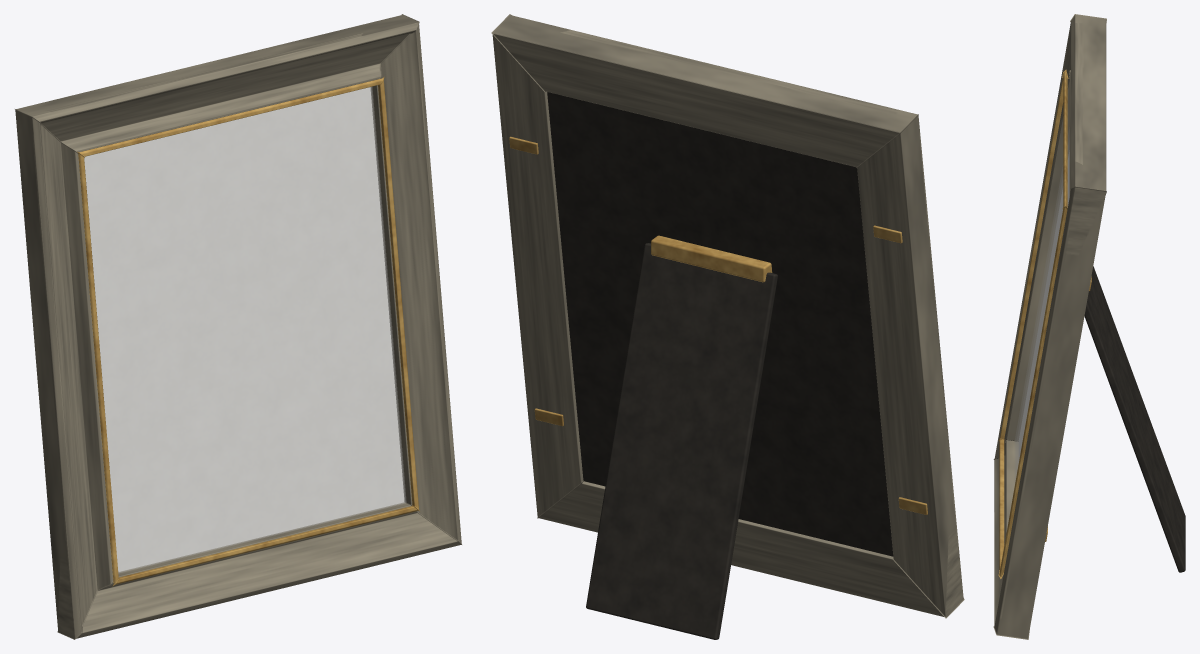
Rendered from portarretrato_5.gltf.
3 renders of one model, left to right at view 1: azimuth 30°, elevation 25°; view 2: azimuth 150°, elevation 25°; view 3: azimuth 270°, elevation 25°, orthographic. The views are drawn at different scales.
Visible parts, largest first — view 1: cristal, foto, liston.003, liston.001, liston.002, liston, ribete.001, ribete.003, ribete, ribete.002; view 2: respaldo, soporte, liston.003, liston.002, liston.001, liston, bisagra; view 3: liston.001, soporte, liston.002, liston.003, cristal, liston, ribete.001, ribete.003, foto, ribete, ribete.002.
Part boxes in pixels (box(x1,y1,x2,y2)): cristal: box(84, 87, 406, 572); foto: box(84, 87, 404, 571); liston.003: box(15, 109, 113, 639); liston.001: box(370, 25, 461, 543); liston.002: box(16, 14, 419, 152); liston: box(76, 502, 461, 638); ribete.001: box(378, 80, 419, 510); ribete.003: box(77, 152, 119, 586); ribete: box(115, 505, 419, 584); ribete.002: box(78, 76, 384, 156); respaldo: box(547, 92, 893, 556); soporte: box(586, 243, 777, 639); liston.003: box(857, 114, 964, 618); liston.002: box(491, 14, 918, 167); liston.001: box(492, 35, 583, 518); liston: box(538, 481, 943, 616); bisagra: box(651, 235, 772, 282); liston.001: box(993, 186, 1106, 639); soporte: box(1084, 266, 1185, 572); liston.002: box(1069, 14, 1106, 195); liston.003: box(994, 23, 1070, 458); cristal: box(1015, 129, 1069, 481); liston: box(993, 440, 1018, 625); ribete.001: box(998, 206, 1067, 578); ribete.003: box(999, 78, 1063, 439); foto: box(1018, 150, 1069, 462); ribete: box(998, 439, 1004, 569); ribete.002: box(1062, 69, 1068, 207).
Size of the model in its own units: 0.2205 by 0.2699 by 0.1037.
Materials: 7 (6 with a texture image).
